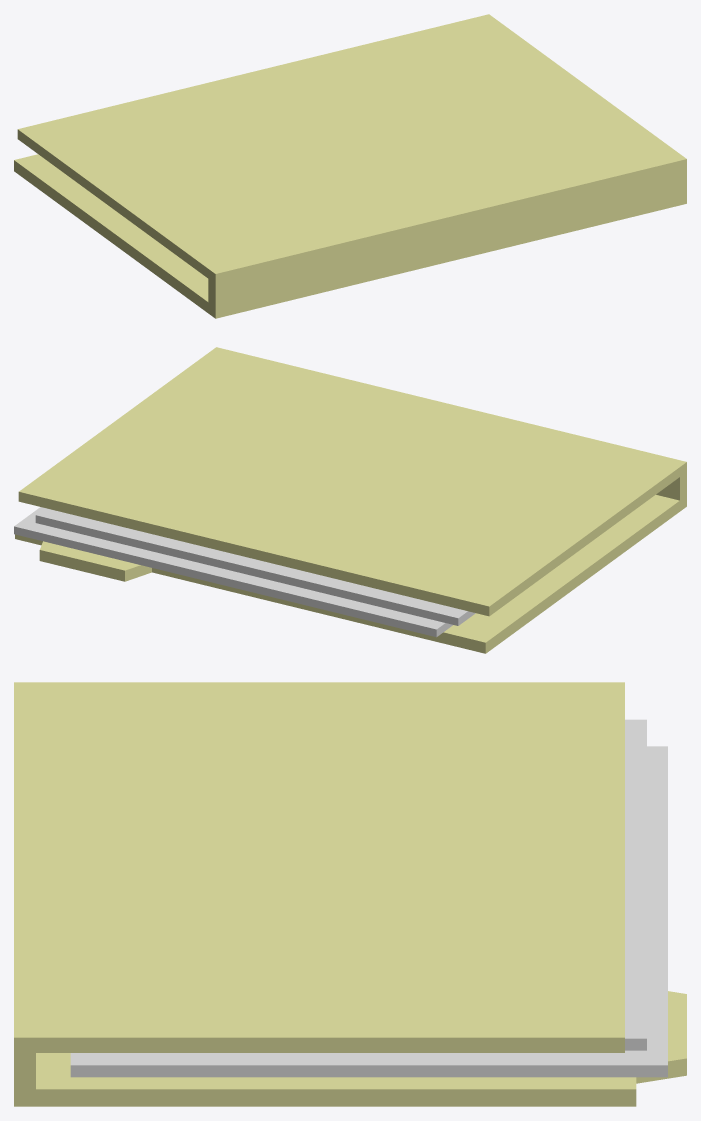
File: Documents.fbx
3 renders of one model, top to bottom at view 1: azimuth 30°, elevation 25°; view 2: azimuth 150°, elevation 25°; view 3: azimuth 270°, elevation 25°, orthographic. The views are drawn at different scales.
Parts seen in each view (by area): view 1: pasted__pCube1; view 2: pasted__pCube1, pasted__pCube2, pasted__pCube3; view 3: pasted__pCube1, pasted__pCube3, pasted__pCube2.
Boxes of the visible parts, left/top/right/bottom form: pasted__pCube1: left=14, top=14, right=686, bottom=318; pasted__pCube1: left=15, top=347, right=686, bottom=653; pasted__pCube2: left=35, top=508, right=475, bottom=625; pasted__pCube3: left=14, top=507, right=452, bottom=637; pasted__pCube1: left=14, top=682, right=686, bottom=1106; pasted__pCube3: left=70, top=746, right=667, bottom=1077; pasted__pCube2: left=625, top=719, right=646, bottom=1050.
Bounding box in the file's own units: 0.6441 × 0.0584 × 0.5158.
